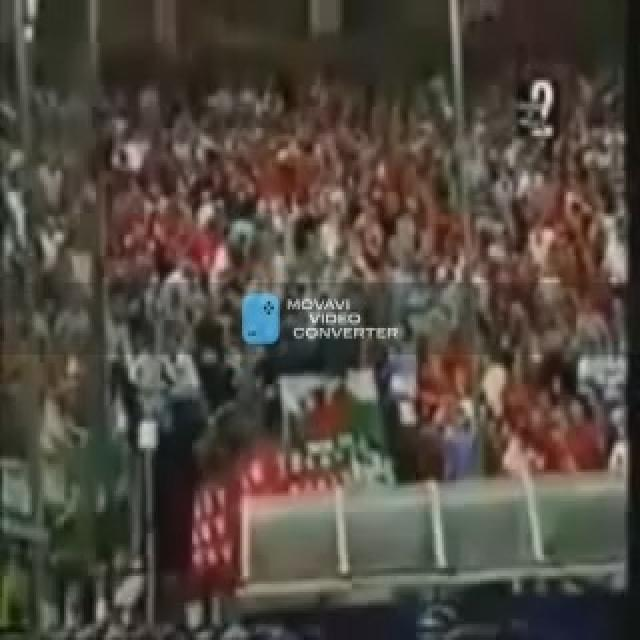non-voilence: (0, 51, 636, 632)
